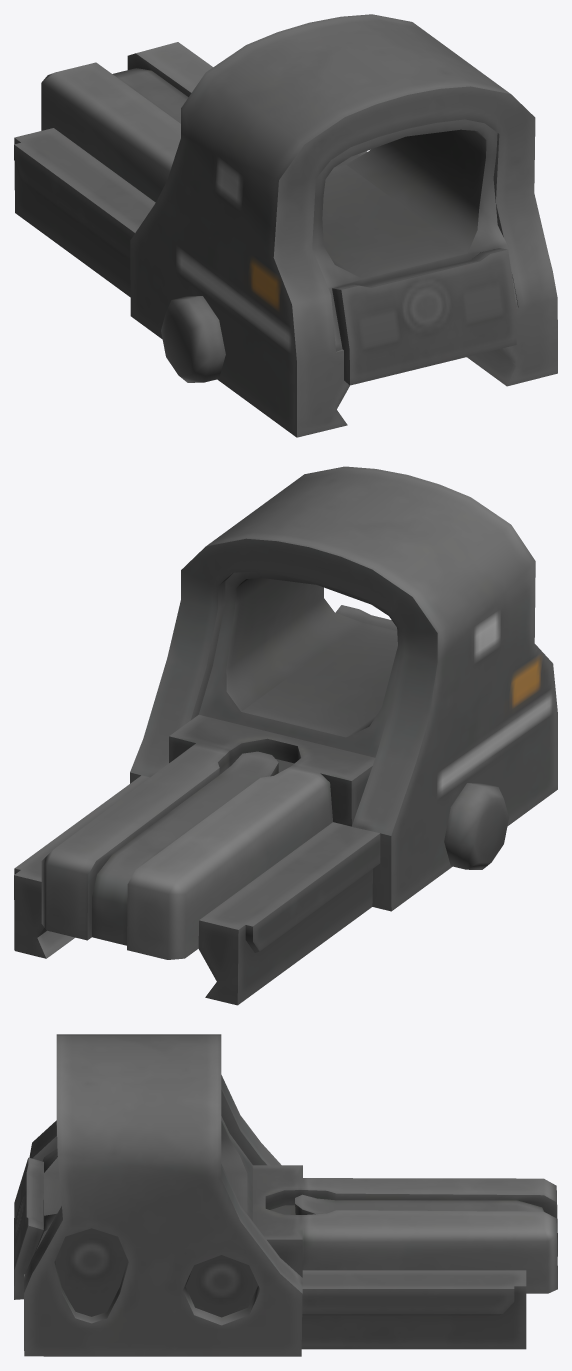
The model's file is IG_Acc_Scope_All_Holo_1.fbx.
3 views of the same model, one above another, from view 1: azimuth 30°, elevation 25°; view 2: azimuth 150°, elevation 25°; view 3: azimuth 270°, elevation 25° (orthographic). The views are drawn at different scales.
Visible parts, largest first — view 1: Scope_All_Holo_1; view 2: Scope_All_Holo_1; view 3: Scope_All_Holo_1.
Boxes of the visible parts, bbox=[...] form: Scope_All_Holo_1: bbox=[14, 14, 557, 437]; Scope_All_Holo_1: bbox=[14, 466, 557, 1005]; Scope_All_Holo_1: bbox=[14, 1034, 557, 1356].
Size of the model in its own units: 0.0927 by 0.0942 by 0.1823.
